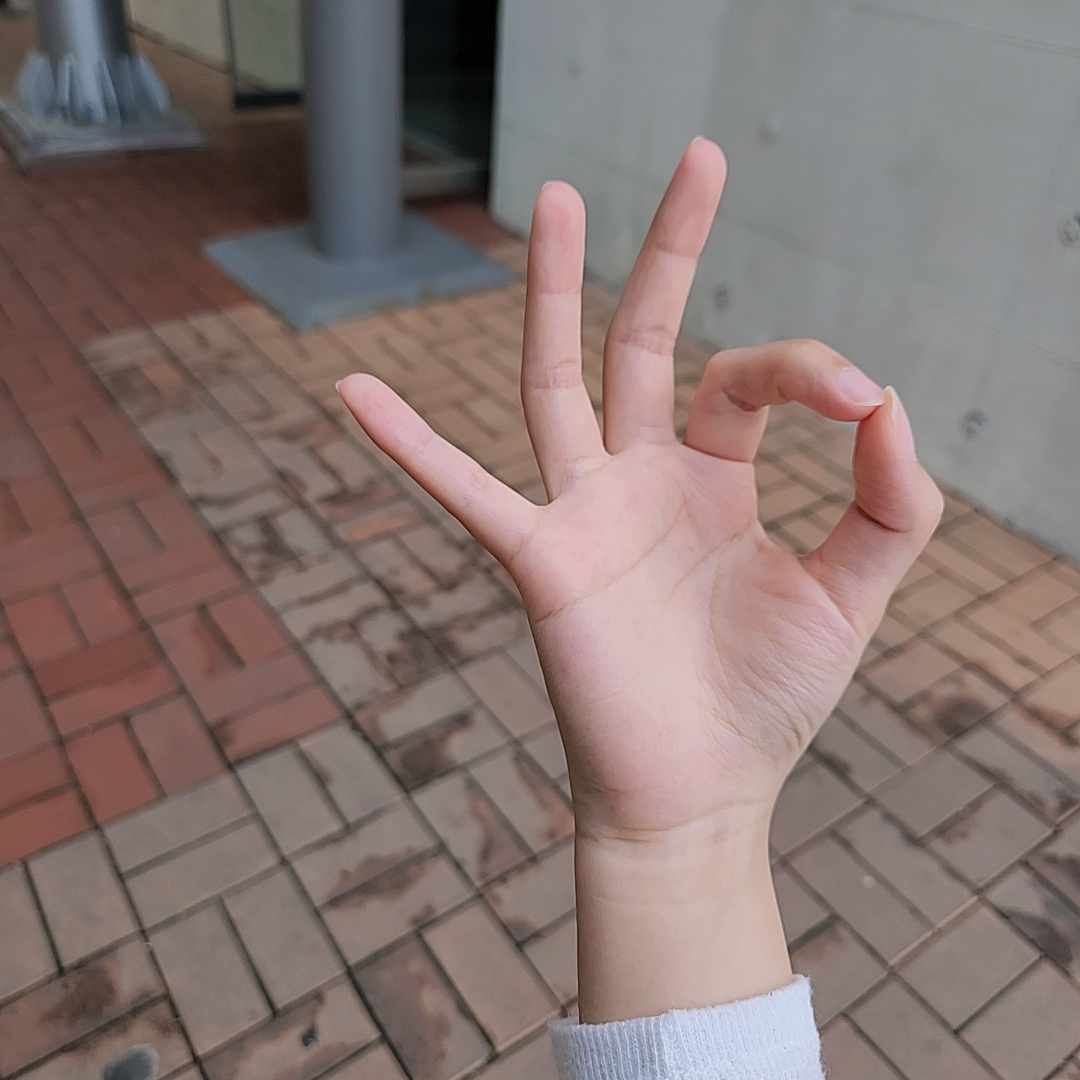see: (332, 135, 946, 800)
